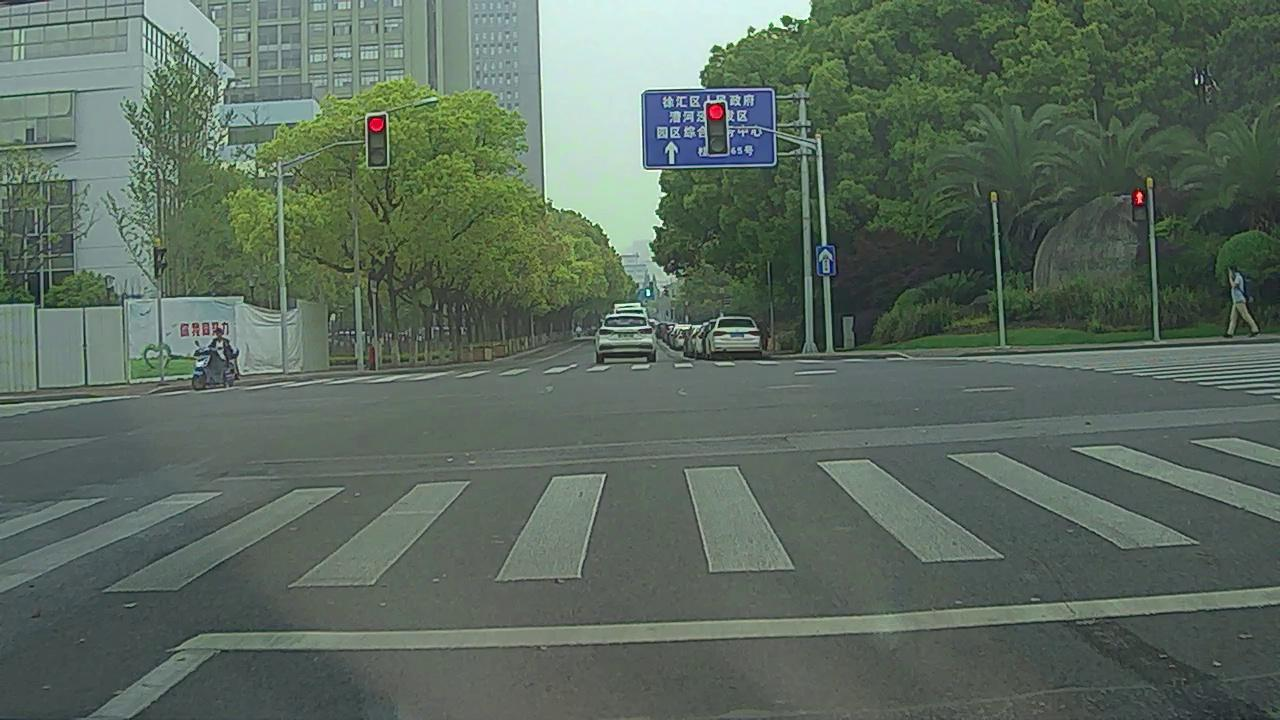traffic_light: (706, 102, 729, 154), (366, 114, 387, 166)
